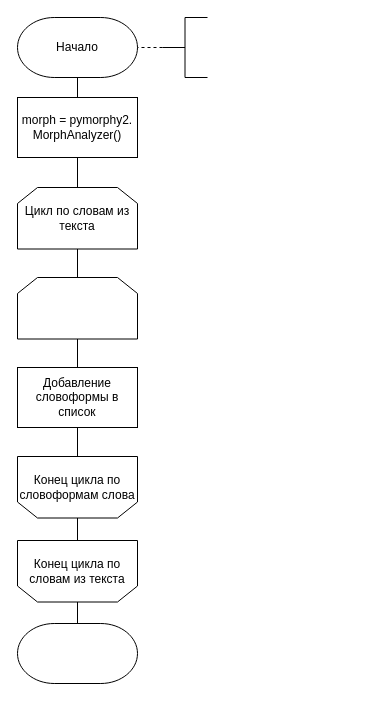
The diagram is 390 pixels wide and 701 high, and some of its shapes have lost their labels. The centre of each missing label's shape, as x and y in pixels:
"get_ambiguous_words Вход: исходный текст, список Выход: изменённый список" goes at point (185, 47).
"Конец" goes at point (77, 653).
"Цикл по словоформам слова" goes at point (77, 307).
